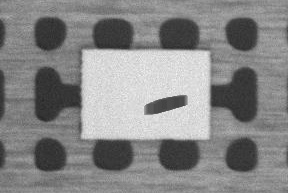DIE_INK: (207, 62, 287, 78)
